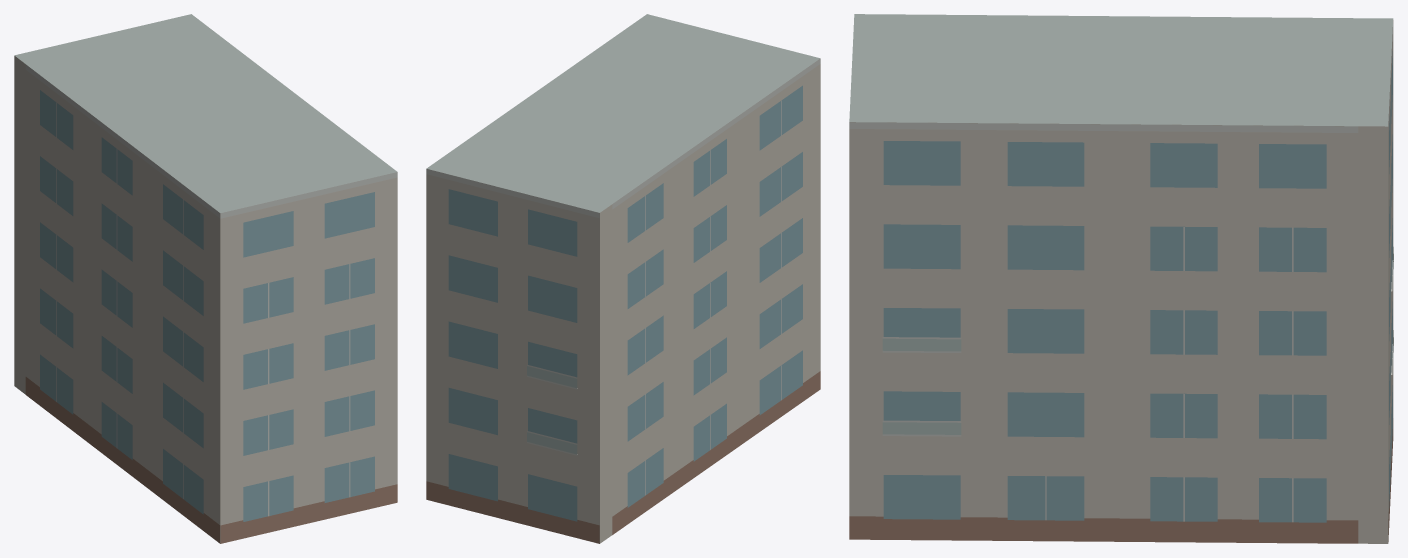
The model's file is survey-upis-33023738.glb.
3 renders of one model, left to right at view 1: azimuth 30°, elevation 25°; view 2: azimuth 150°, elevation 25°; view 3: azimuth 270°, elevation 25°, orthographic. The views are drawn at different scales.
Visible parts, largest first — view 1: survey-upis-33023738.tmp; view 2: survey-upis-33023738.tmp; view 3: survey-upis-33023738.tmp.
Boxes of the visible parts, bbox=[...] form: survey-upis-33023738.tmp: bbox=[14, 14, 397, 543]; survey-upis-33023738.tmp: bbox=[426, 14, 820, 543]; survey-upis-33023738.tmp: bbox=[849, 14, 1393, 543].
Bounding box in the file's own units: 8.56 × 14.8 × 17.5.
